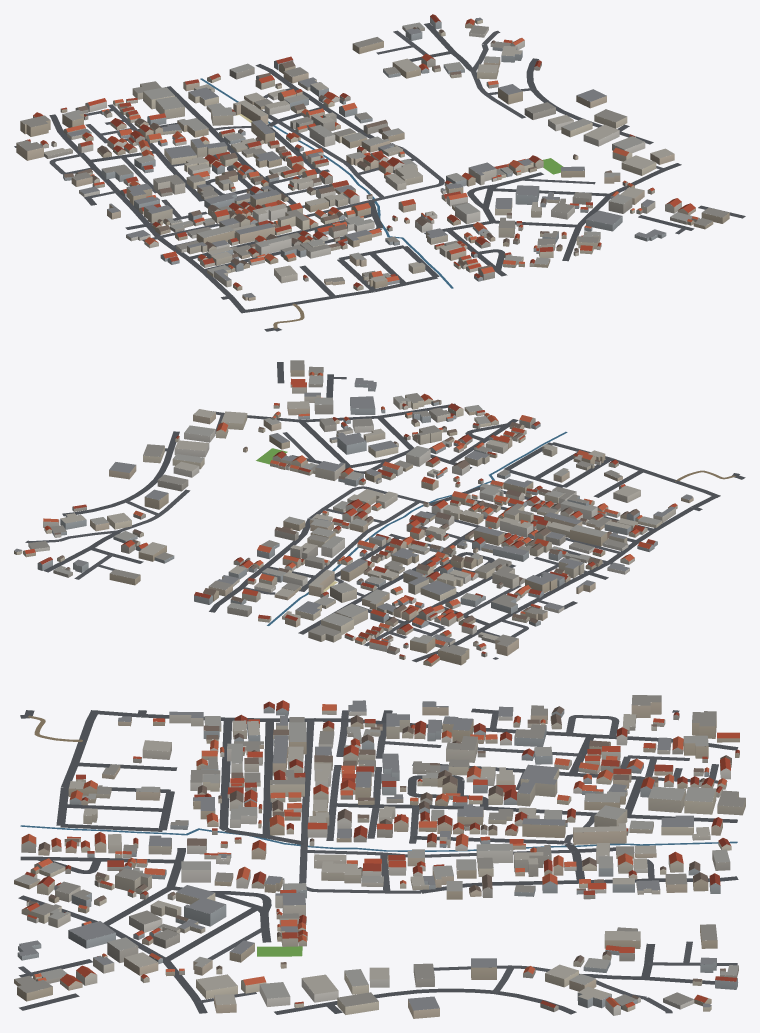
3 views of the same model, one above another, from view 1: azimuth 30°, elevation 25°; view 2: azimuth 150°, elevation 25°; view 3: azimuth 270°, elevation 25° (orthographic). The views are drawn at different scales.
Parts seen in each view (by area): view 1: buildings_walls, buildings_roofs, roads, water; view 2: buildings_walls, buildings_roofs, roads, water; view 3: buildings_roofs, buildings_walls, roads, water.
Part boxes in pixels (<box>): buildings_walls: <box>16,17,729,300</box>; buildings_roofs: <box>16,14,728,297</box>; roads: <box>14,23,745,331</box>; water: <box>200,78,453,288</box>; buildings_walls: <box>14,366,693,666</box>; buildings_roofs: <box>14,360,692,663</box>; roads: <box>25,362,745,662</box>; water: <box>267,431,567,625</box>; buildings_roofs: <box>14,695,745,1010</box>; buildings_walls: <box>14,702,745,1018</box>; roads: <box>18,708,738,1014</box>; water: <box>20,825,737,851</box>.
Bounding box in the file's own units: 519 × 9.69 × 510.
